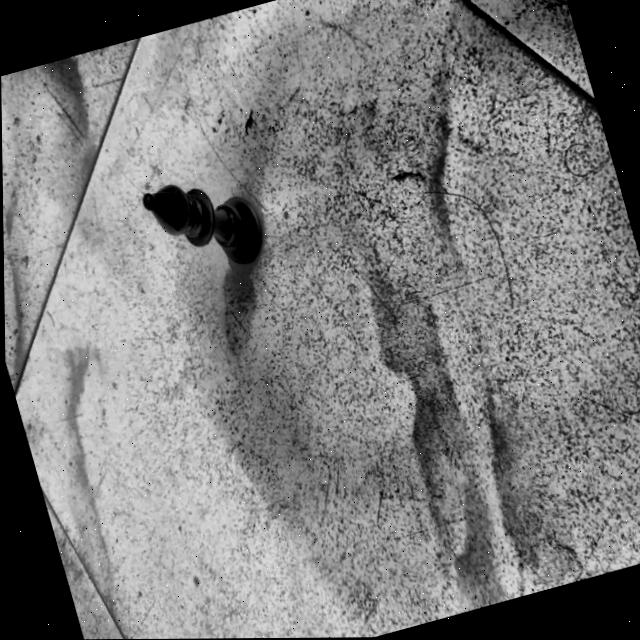BlackBishop: (137, 162, 273, 288)
